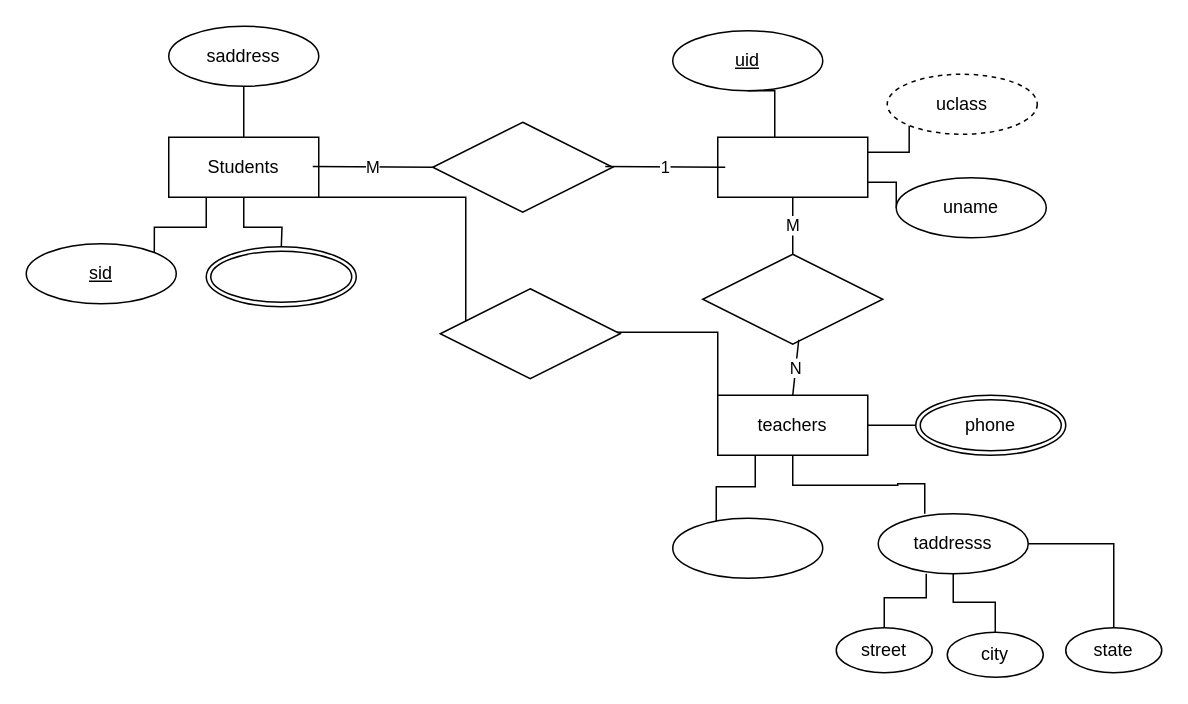
This 1188x704 diagram has some shape labels left out. Each missing label, with the centre of its shape:
email: the point at 280,276
employees: the point at 792,298
study in: the point at 522,166
teaches: the point at 529,333
tid: the point at 747,547
university: the point at 792,166
